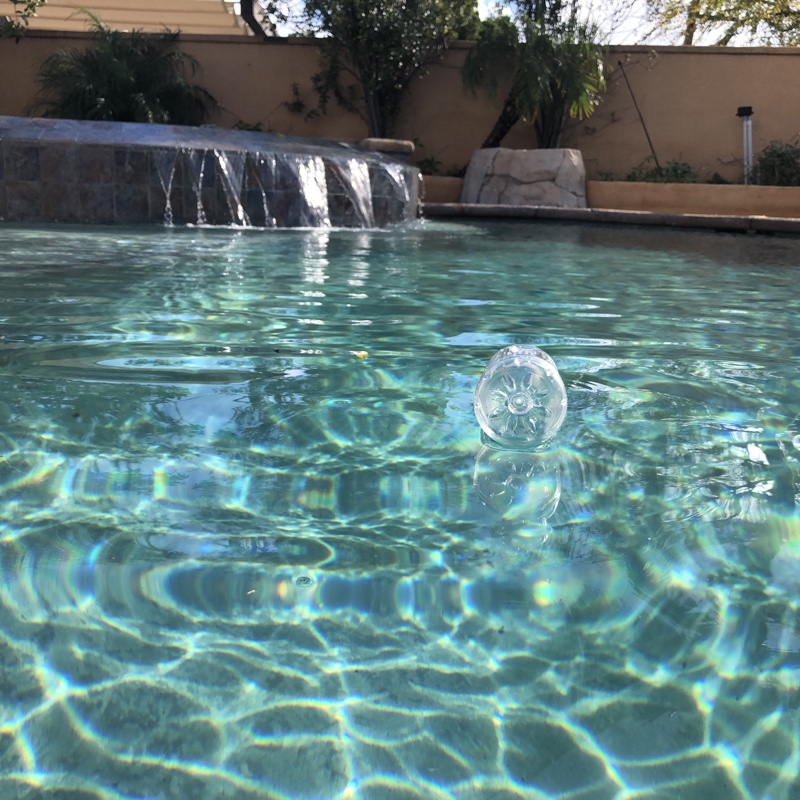Plastic Bottle: (471, 339, 571, 453)
